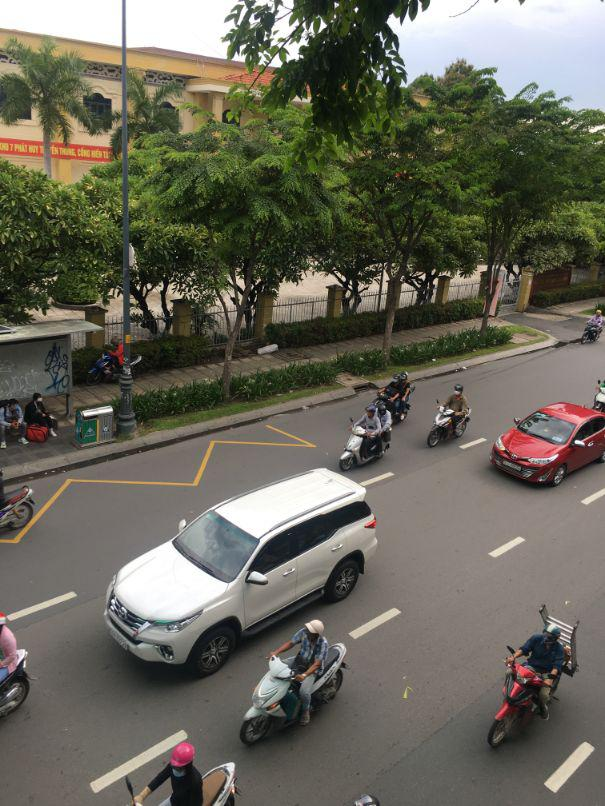car: (104, 468, 380, 679), (490, 398, 605, 488)
motorbike: (241, 631, 346, 745), (489, 661, 558, 746), (340, 411, 390, 470), (0, 467, 36, 544), (0, 650, 30, 727), (426, 402, 472, 448), (581, 312, 604, 343)
